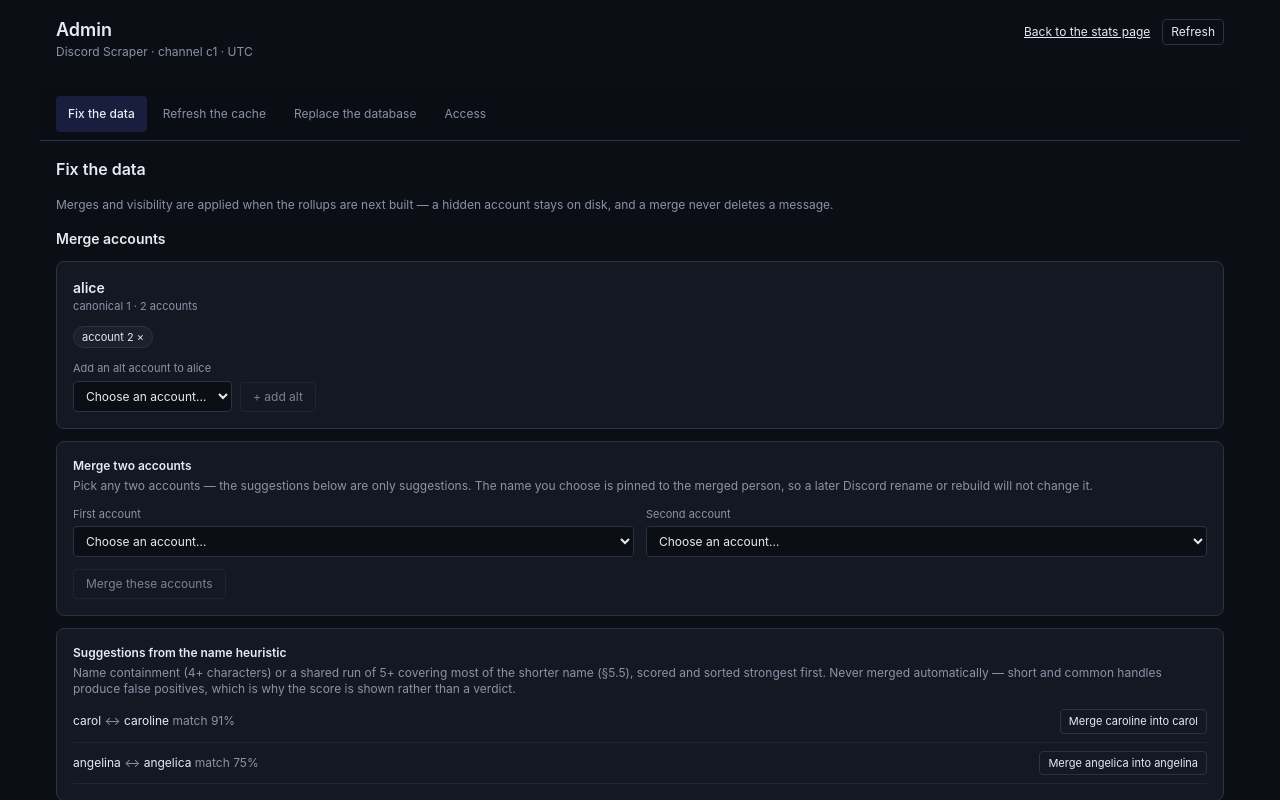
Test case: <Admin> › writes an include toggle through the API and marks the cache stale
The image size is (1280, 800).
Click the button "Fix the data" at (101, 114), box [56,96,147,132]
(page scrolled)
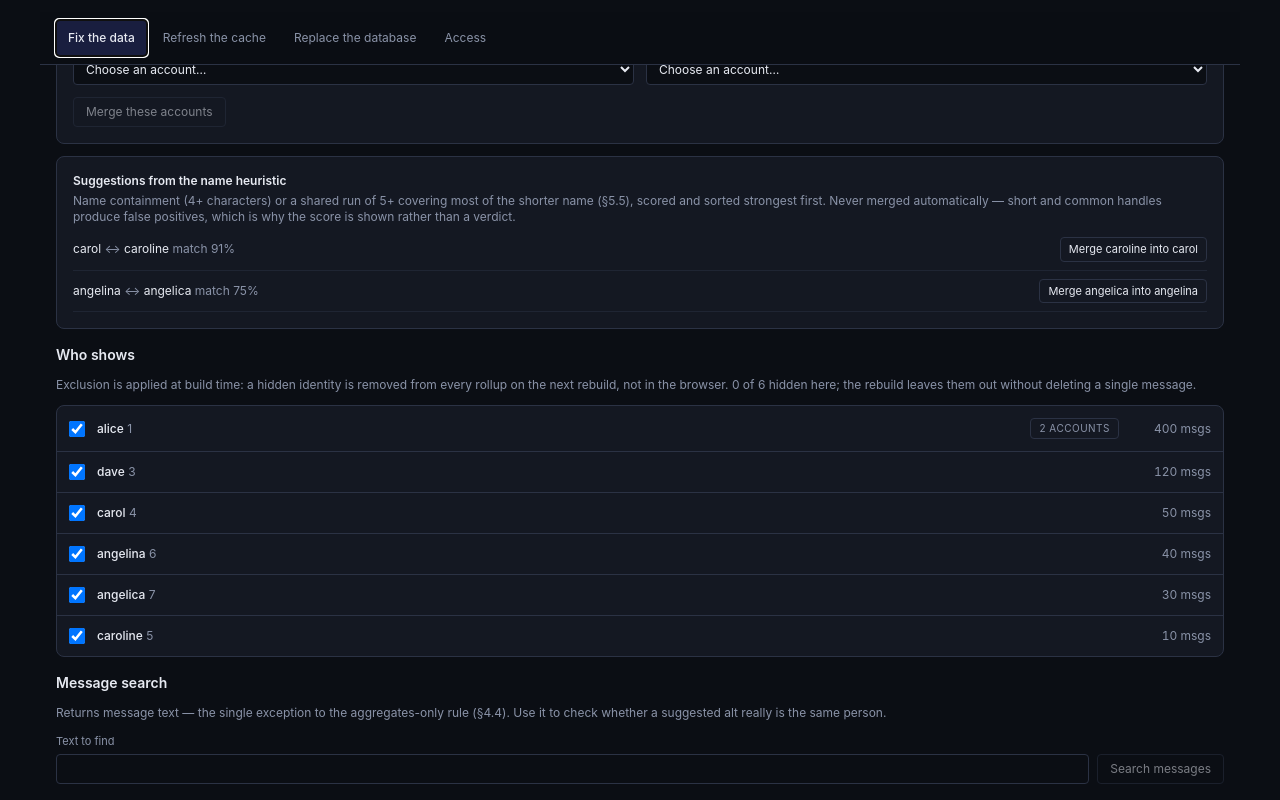
Click the checkbox labelled "alice 1" at (77, 429), box [69,421,85,437]
(page scrolled)
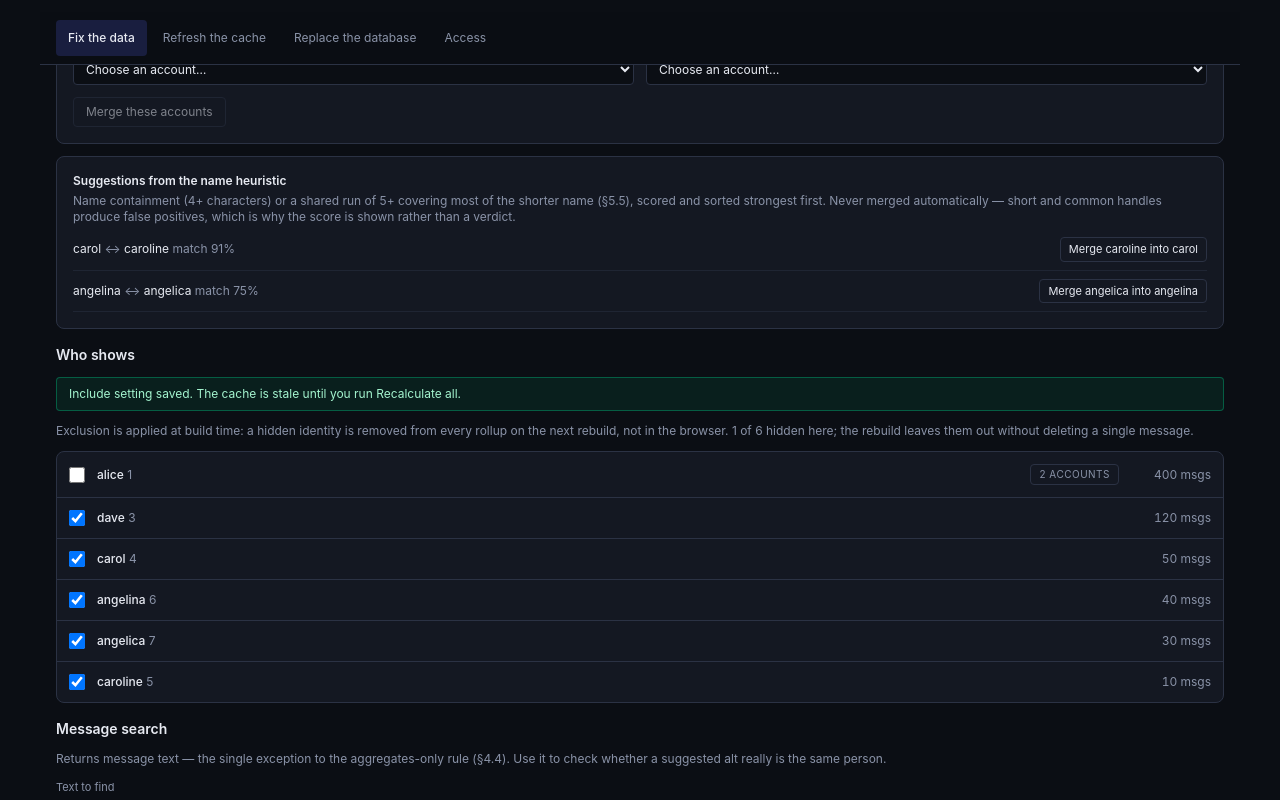
Expected: the text "Include setting saved. The cache is stale until you run Recalculate all." is shown, [56,377,1224,411]
